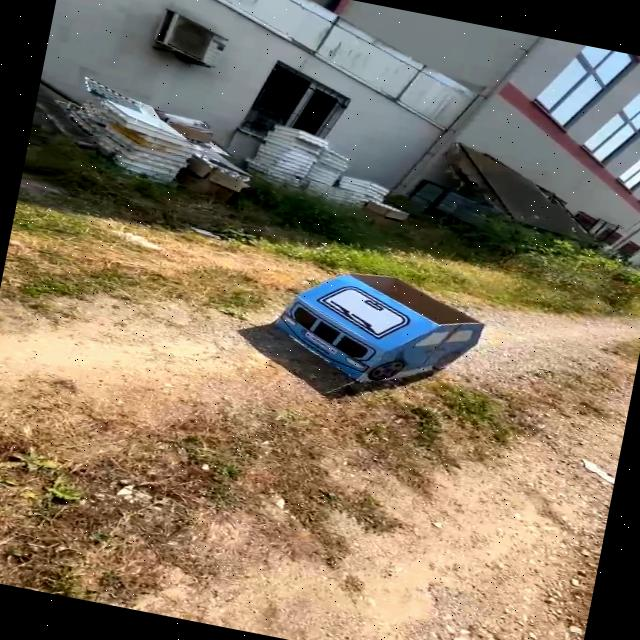blue_car: (257, 245, 501, 414)
